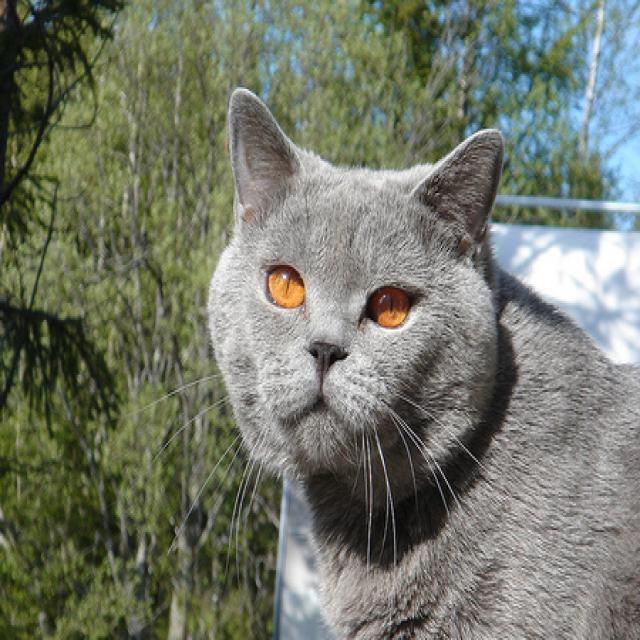British Shorthair: (203, 83, 640, 640)
